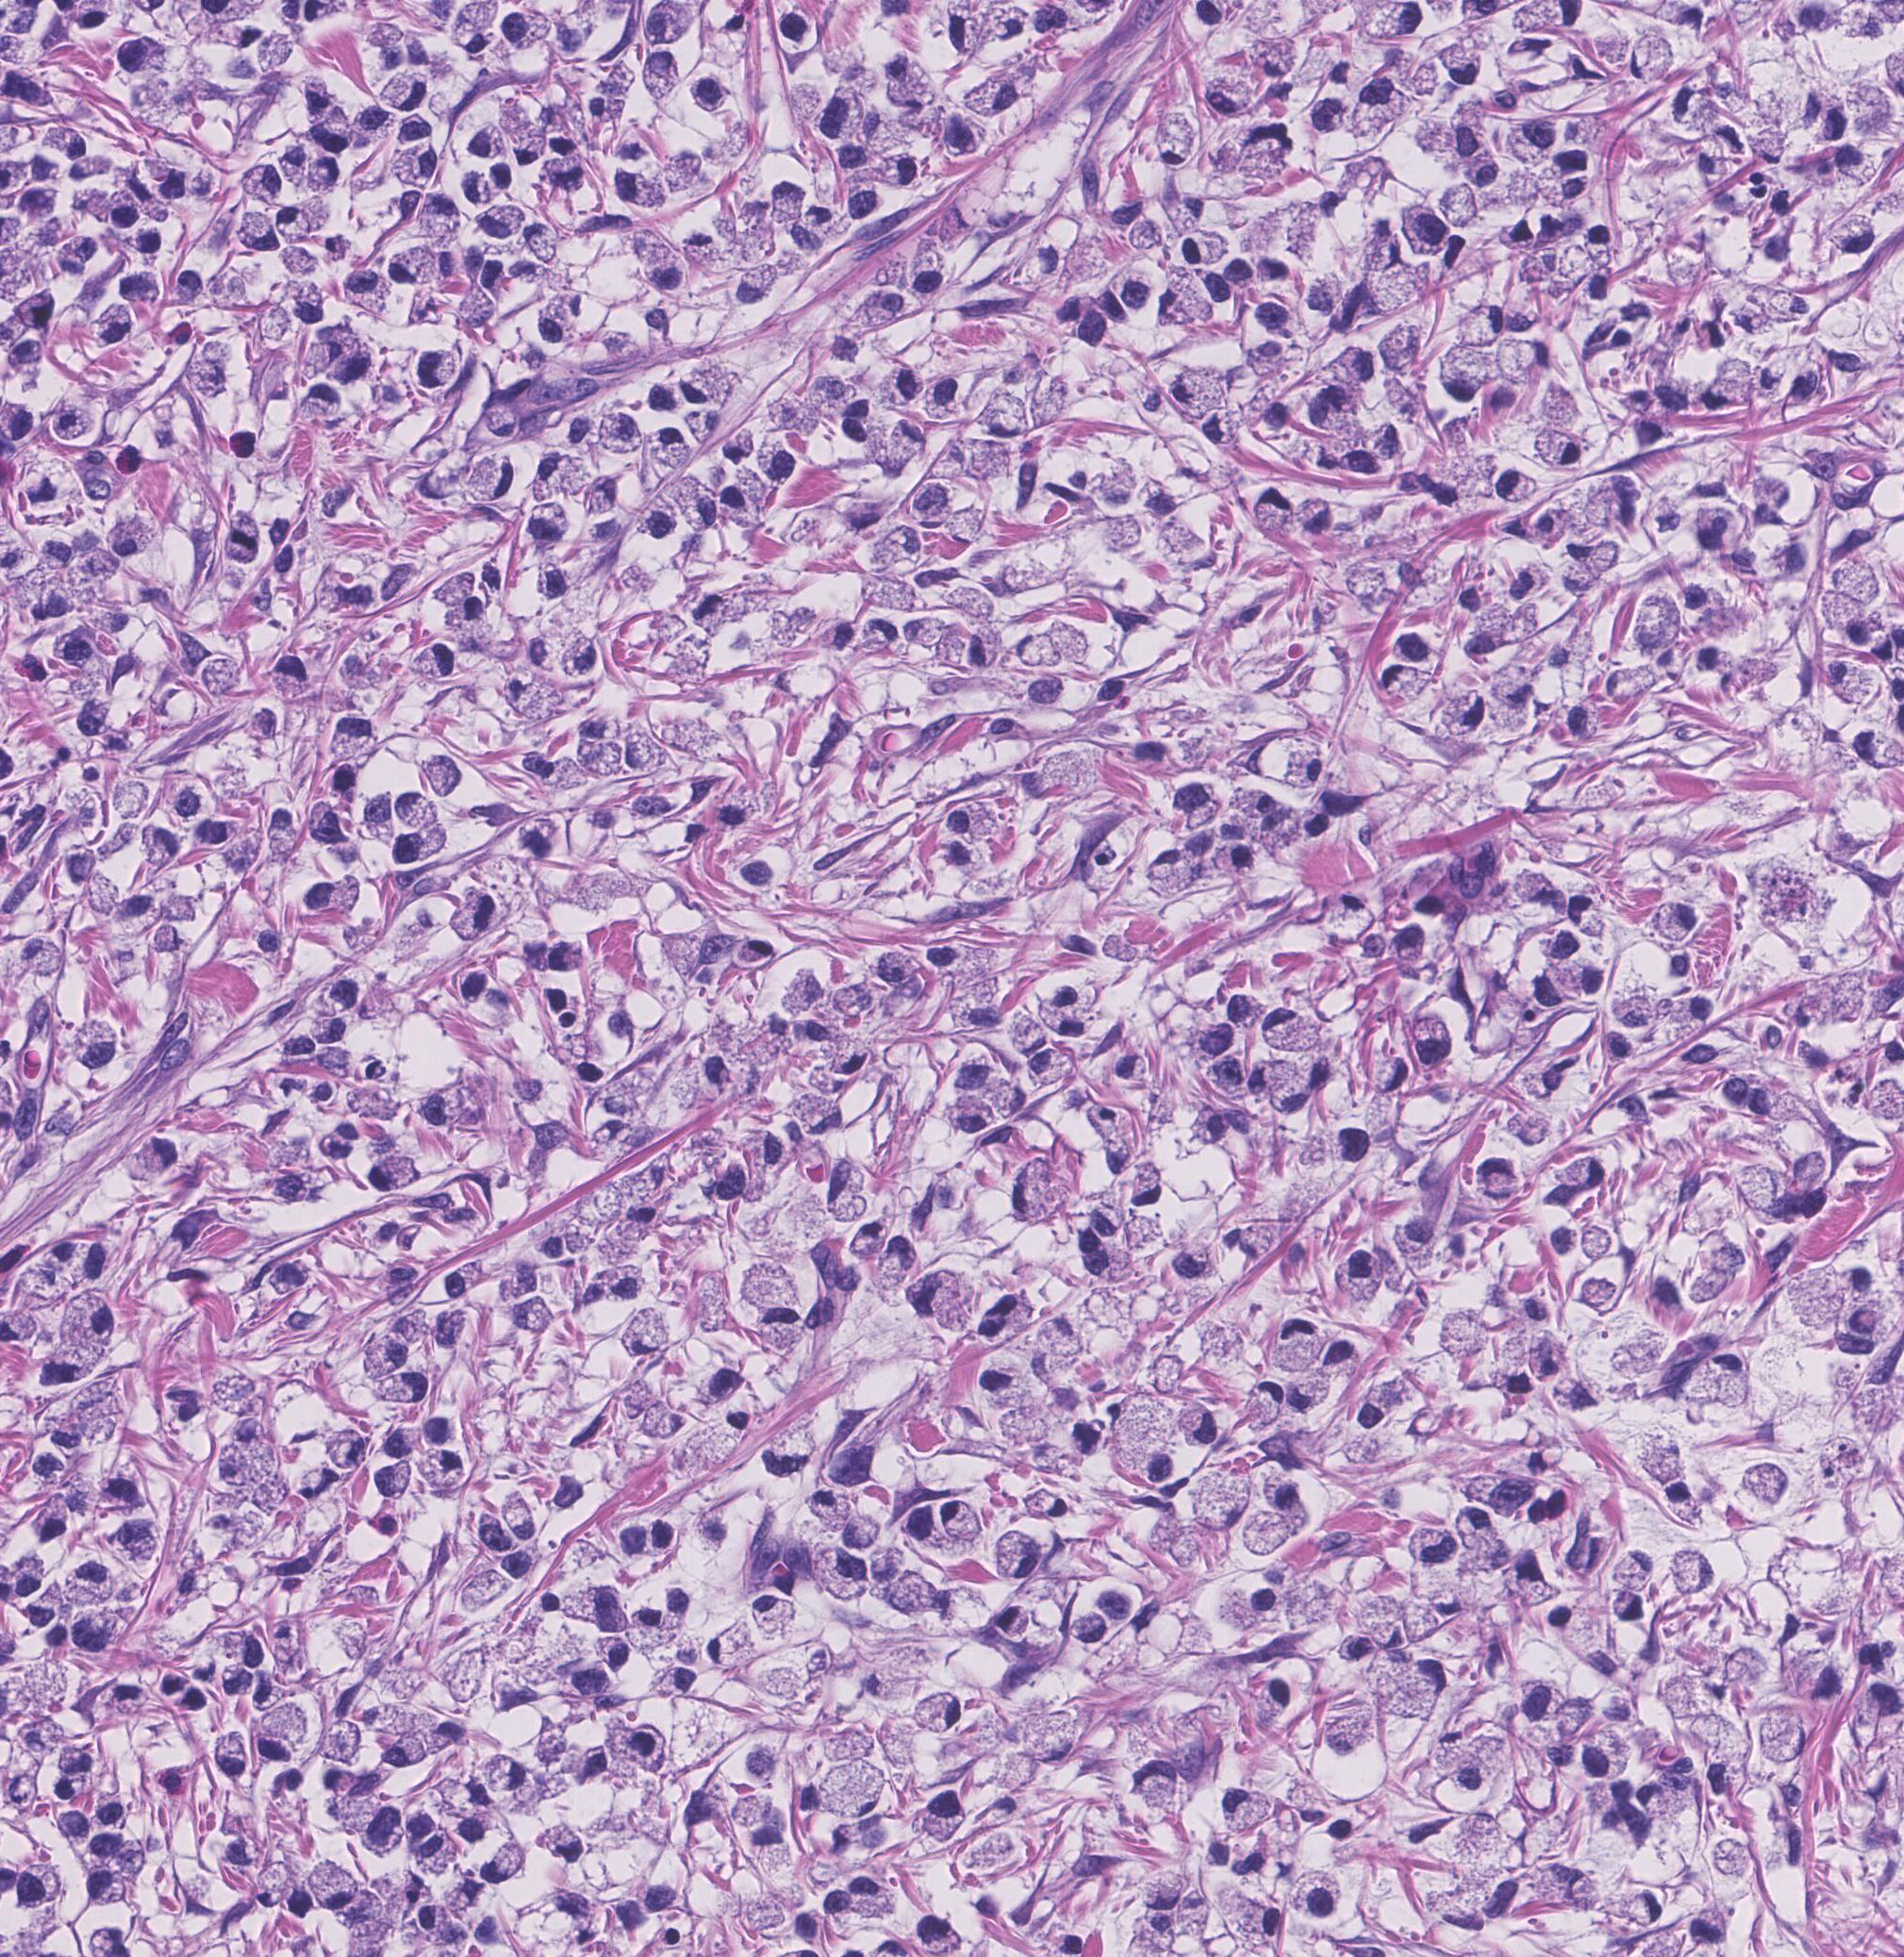ring_cell_cancer: (1114, 1400, 1179, 1482), (828, 1763, 889, 1817), (1197, 1469, 1249, 1532), (1581, 479, 1644, 531), (416, 446, 472, 503), (505, 669, 564, 723), (56, 1293, 112, 1349), (1010, 1158, 1060, 1220), (744, 1824, 793, 1887), (1259, 1005, 1324, 1052), (861, 1655, 928, 1700), (1356, 75, 1401, 138), (1018, 1712, 1076, 1761), (260, 1704, 307, 1763), (908, 1274, 971, 1317), (1438, 346, 1487, 402), (1787, 1651, 1843, 1700), (1460, 612, 1530, 650), (1495, 335, 1548, 386), (307, 1857, 362, 1906), (1390, 1662, 1445, 1711), (1169, 372, 1221, 419), (1289, 1868, 1340, 1915), (1700, 365, 1752, 411), (1439, 688, 1487, 737), (1244, 1677, 1293, 1725), (1310, 386, 1356, 437), (1144, 849, 1197, 893), (921, 1789, 964, 1842), (886, 58, 929, 110), (1659, 991, 1714, 1033), (949, 12, 996, 59), (680, 360, 728, 405), (129, 1134, 182, 1176), (454, 893, 500, 940), (1249, 482, 1294, 529), (1763, 1714, 1808, 1761), (1583, 1730, 1628, 1777), (1829, 659, 1878, 702), (845, 1218, 894, 1262), (1824, 213, 1874, 255), (419, 1452, 472, 1492), (870, 360, 922, 400), (791, 210, 845, 248), (1652, 898, 1698, 944), (269, 652, 316, 695), (112, 891, 159, 935), (1275, 1321, 1319, 1368), (1670, 1553, 1717, 1597), (1357, 1384, 1401, 1431), (1132, 1763, 1176, 1810), (68, 1024, 117, 1066), (997, 1534, 1039, 1583), (1534, 965, 1583, 1006), (1705, 1356, 1747, 1405), (817, 1557, 866, 1599), (1530, 430, 1581, 470), (968, 79, 1020, 117), (1413, 1010, 1448, 1068), (1628, 37, 1673, 80), (234, 213, 278, 259), (1247, 126, 1291, 171), (1693, 643, 1735, 690), (849, 1877, 891, 1924), (264, 809, 304, 858), (369, 1153, 417, 1193), (985, 393, 1025, 442), (501, 1490, 538, 1543), (423, 1092, 480, 1125), (650, 430, 693, 474), (1287, 1370, 1331, 1414), (1254, 38, 1298, 82), (921, 1691, 962, 1737), (1179, 1405, 1221, 1450), (1439, 42, 1481, 87), (1855, 730, 1901, 772), (629, 1310, 667, 1359), (639, 241, 676, 292), (1492, 669, 1535, 711), (625, 734, 671, 774), (299, 881, 360, 910), (1270, 1064, 1308, 1111), (856, 290, 910, 323), (610, 169, 659, 206), (648, 7, 699, 42), (535, 297, 576, 339), (414, 349, 458, 390), (66, 1559, 110, 1599), (1223, 1789, 1263, 1833), (555, 636, 601, 674), (381, 1370, 433, 1403), (1163, 115, 1197, 168), (362, 1331, 409, 1368), (459, 465, 507, 501), (379, 75, 428, 110), (1291, 741, 1326, 790), (1480, 1158, 1520, 1200), (1331, 895, 1373, 935), (395, 832, 445, 865), (1460, 304, 1504, 342), (337, 715, 374, 760), (681, 482, 718, 528), (735, 259, 772, 304), (831, 1036, 868, 1082), (281, 283, 321, 323), (1362, 5, 1420, 33), (1614, 1552, 1652, 1594), (501, 10, 543, 49), (910, 248, 940, 302), (480, 1845, 524, 1882), (82, 1868, 126, 1905), (1605, 666, 1649, 702), (648, 1669, 699, 1700), (1244, 1062, 1294, 1094), (1135, 1160, 1165, 1213), (17, 295, 58, 334), (94, 309, 135, 348), (540, 456, 578, 496), (1415, 1522, 1453, 1562), (802, 1097, 842, 1136), (224, 1630, 266, 1667), (484, 1761, 526, 1798), (297, 341, 341, 376), (384, 248, 428, 283), (1020, 1487, 1066, 1520), (889, 421, 922, 467), (38, 1496, 70, 1543), (470, 203, 517, 234), (1335, 348, 1373, 386), (1626, 1889, 1665, 1927), (749, 1132, 786, 1172), (416, 1835, 451, 1877), (699, 1634, 751, 1662), (1029, 1048, 1071, 1083), (1179, 232, 1223, 266), (1207, 77, 1251, 110), (524, 222, 557, 266), (1251, 1382, 1282, 1428), (407, 1798, 442, 1838), (1562, 1158, 1602, 1193), (641, 54, 676, 94), (1506, 287, 1535, 334), (1010, 1013, 1043, 1055), (968, 626, 1001, 667), (514, 122, 545, 166), (1214, 844, 1258, 875), (398, 792, 435, 828), (21, 1592, 59, 1627), (938, 1501, 973, 1539), (533, 503, 566, 543), (1135, 739, 1169, 779), (262, 1866, 293, 1908), (1013, 638, 1055, 669), (1494, 470, 1535, 501), (1380, 667, 1427, 695), (114, 521, 150, 556), (447, 1260, 482, 1297), (751, 1597, 788, 1632), (1205, 414, 1240, 451), (648, 1407, 686, 1440), (606, 1265, 645, 1298), (763, 1307, 797, 1345), (887, 1239, 915, 1284), (19, 940, 59, 972), (774, 180, 805, 220), (384, 1739, 426, 1768), (44, 131, 87, 159), (1371, 1059, 1408, 1092), (1296, 501, 1333, 535), (14, 1557, 45, 1595), (865, 619, 896, 657), (949, 804, 987, 835), (276, 211, 314, 243), (548, 1831, 589, 1861), (762, 440, 790, 482), (302, 384, 337, 418), (421, 643, 456, 676), (400, 150, 435, 183), (1328, 1342, 1359, 1379), (2, 1314, 40, 1344), (215, 1737, 245, 1775), (140, 832, 175, 863), (547, 157, 578, 192), (1619, 998, 1652, 1029), (585, 481, 618, 512), (882, 156, 917, 185), (959, 1097, 989, 1132), (1469, 149, 1495, 187), (246, 161, 269, 204), (1069, 1618, 1106, 1644), (487, 397, 512, 435), (117, 1525, 148, 1553), (311, 161, 337, 192), (431, 1725, 463, 1749), (180, 269, 203, 302)
